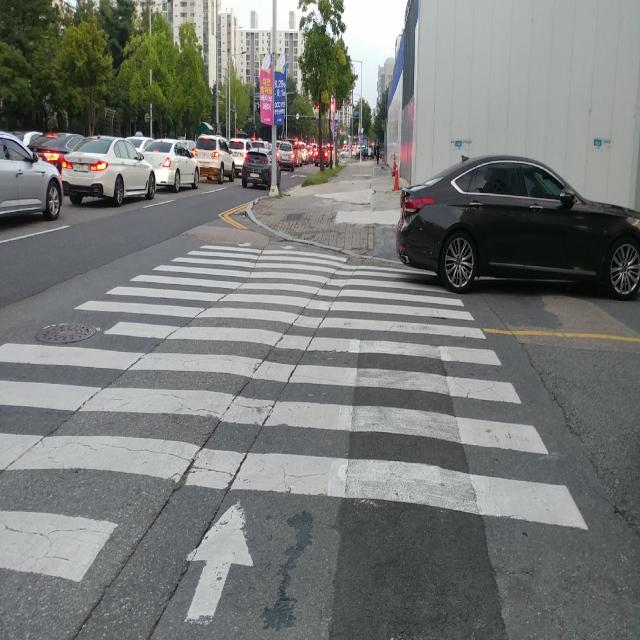횡단보도: (0, 240, 590, 626)
